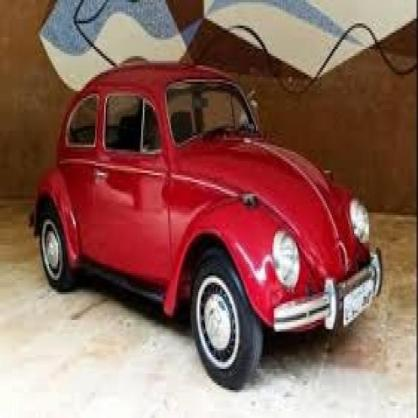car: (32, 62, 384, 396)
